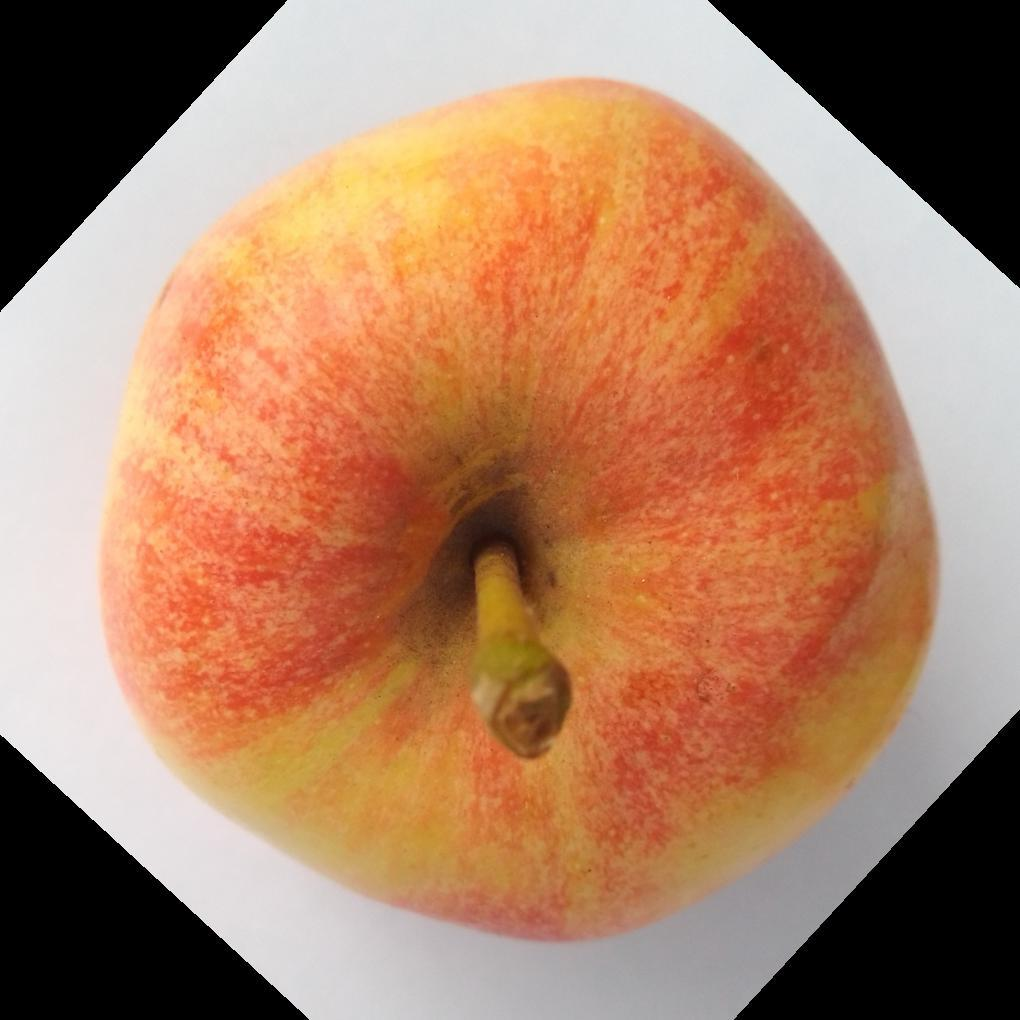FreshGuava: (94, 79, 941, 948)
